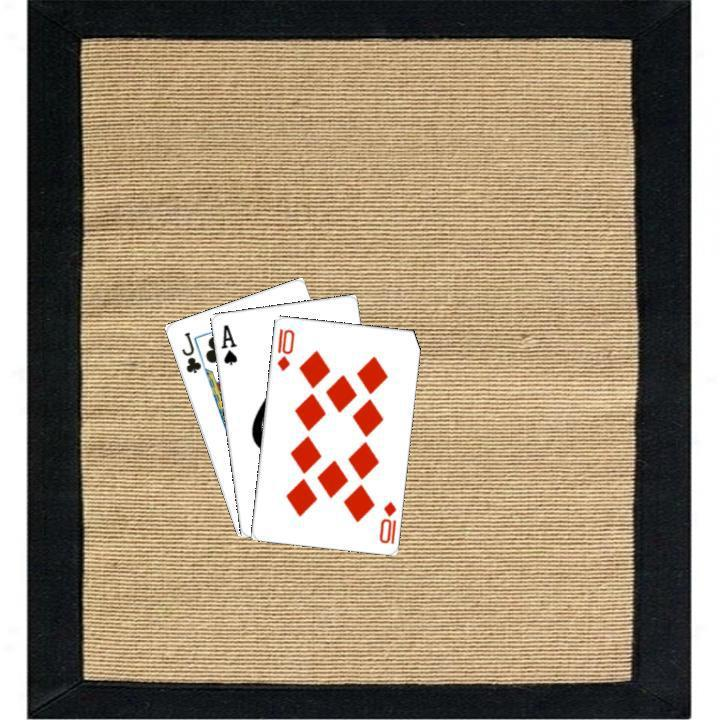10: (374, 496, 398, 546), (273, 324, 296, 372)
A: (216, 320, 238, 367)
J: (177, 327, 203, 375)
